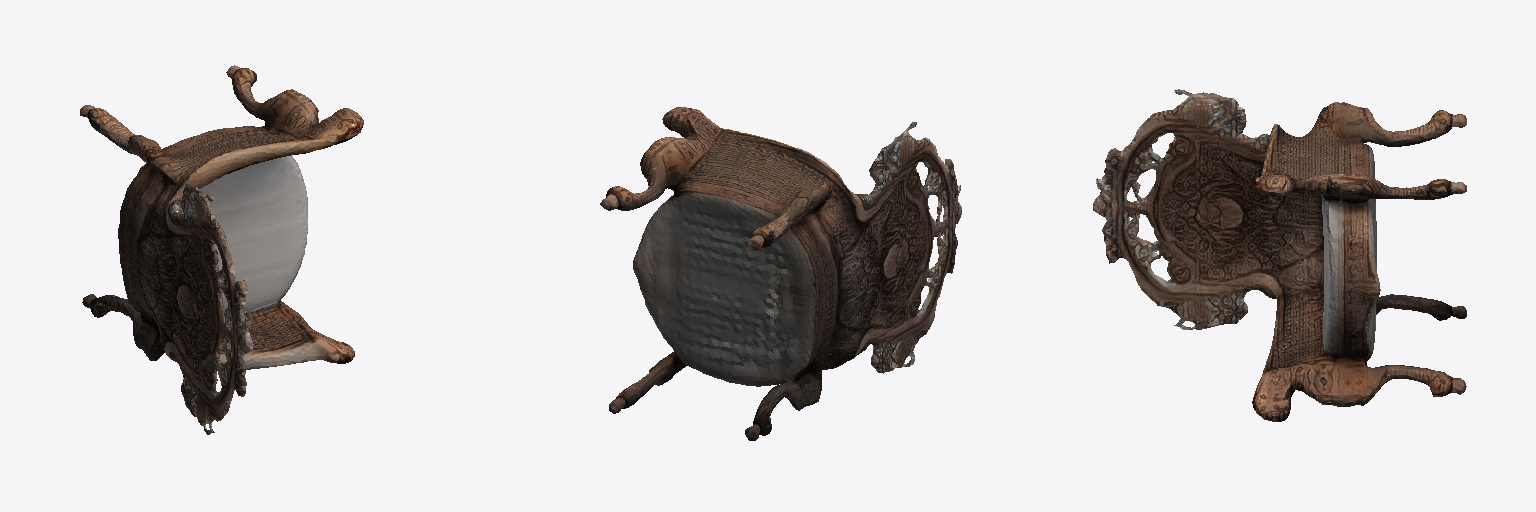
The picture shows the model from 3 angles: view 1: azimuth 30°, elevation 25°; view 2: azimuth 150°, elevation 25°; view 3: azimuth 270°, elevation 25°; orthographic projection.
Bounding box in the file's own units: 1.25 × 1.43 × 1.96.
Materials: 1 (1 with a texture image).